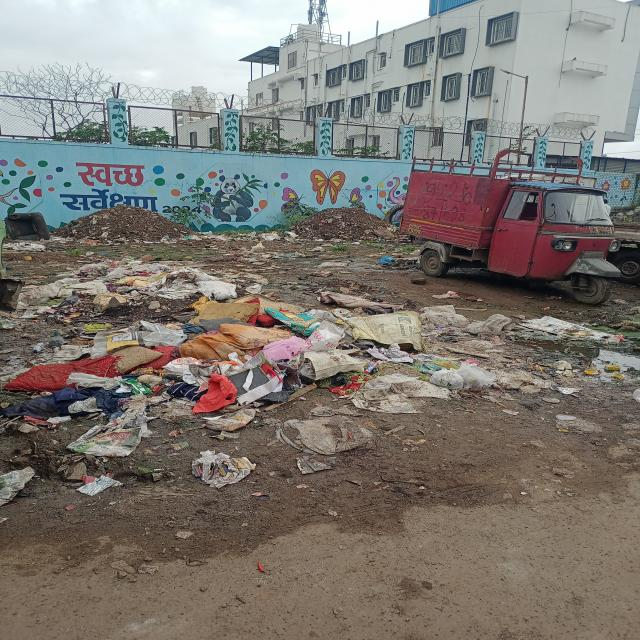garbage: (0, 259, 245, 494), (254, 296, 596, 437), (71, 206, 189, 246), (298, 206, 400, 240), (189, 230, 305, 250), (11, 210, 55, 252)
